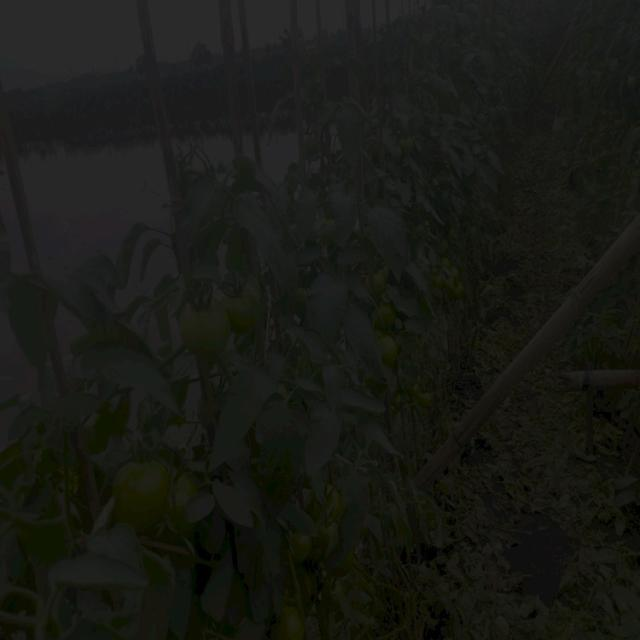tomato: (109, 458, 194, 527), (186, 296, 239, 357), (227, 280, 257, 336), (320, 479, 343, 539), (280, 603, 307, 640), (381, 337, 405, 373), (443, 262, 465, 299), (365, 266, 396, 292), (291, 528, 316, 559), (375, 307, 394, 338)
